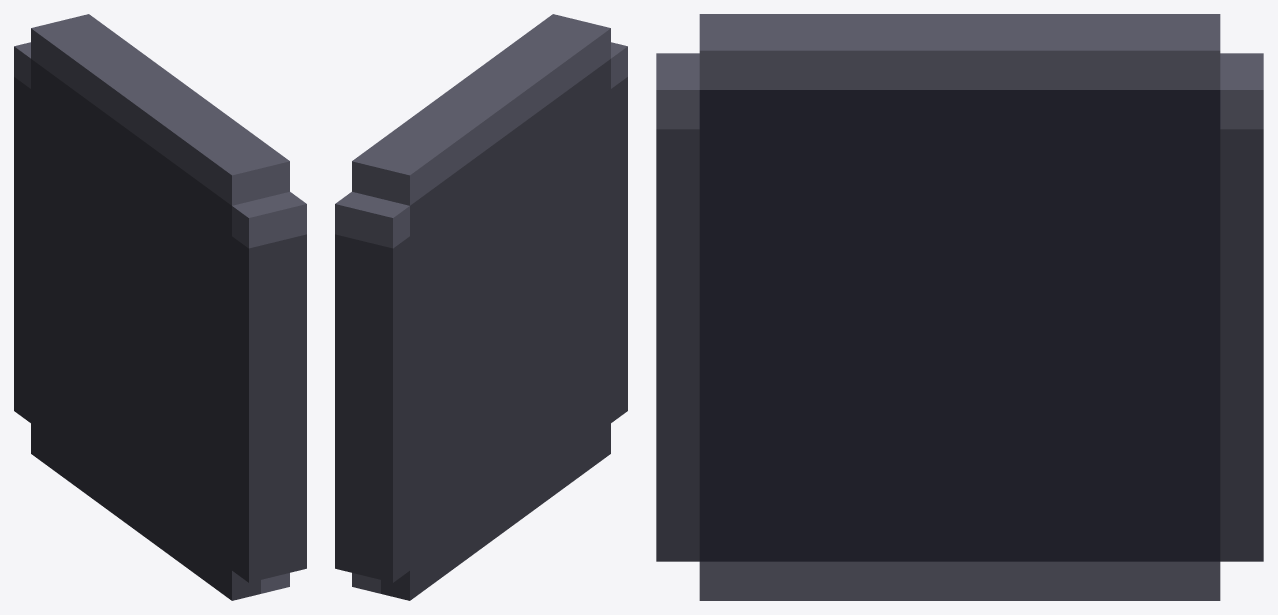
The model's file is ProductBoard.obj.
3 views of the same model, side by side, from view 1: azimuth 30°, elevation 25°; view 2: azimuth 150°, elevation 25°; view 3: azimuth 270°, elevation 25° (orthographic). The views are drawn at different scales.
Bounding box in the file's own units: 0.2 × 1.4 × 1.4.
1 material, 1 textured.
